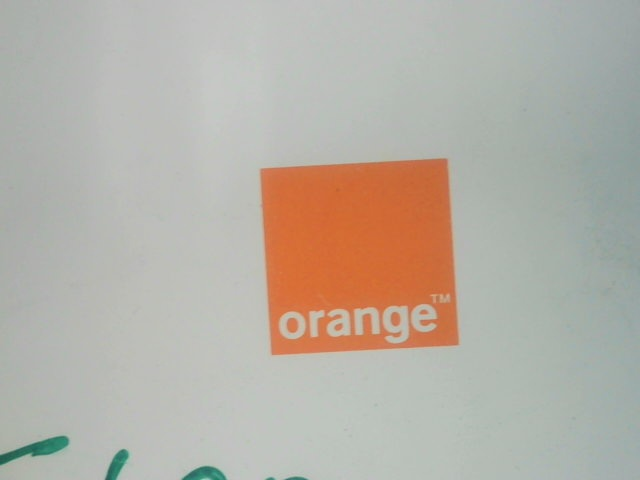AR_Orange: (254, 157, 467, 356)
